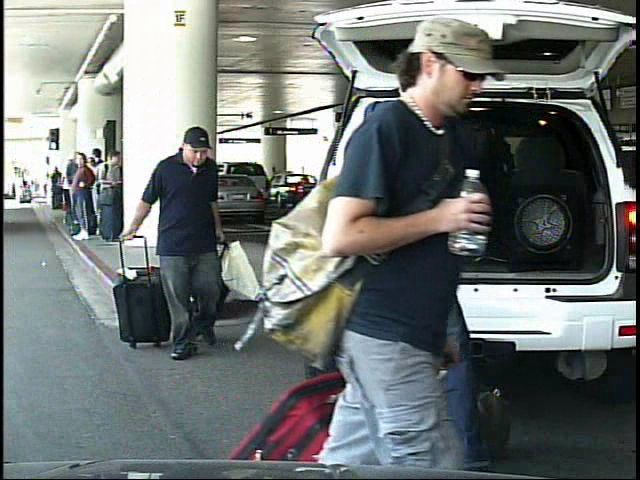person: (296, 13, 492, 475), (330, 73, 515, 476), (116, 125, 242, 364), (13, 174, 24, 205)
